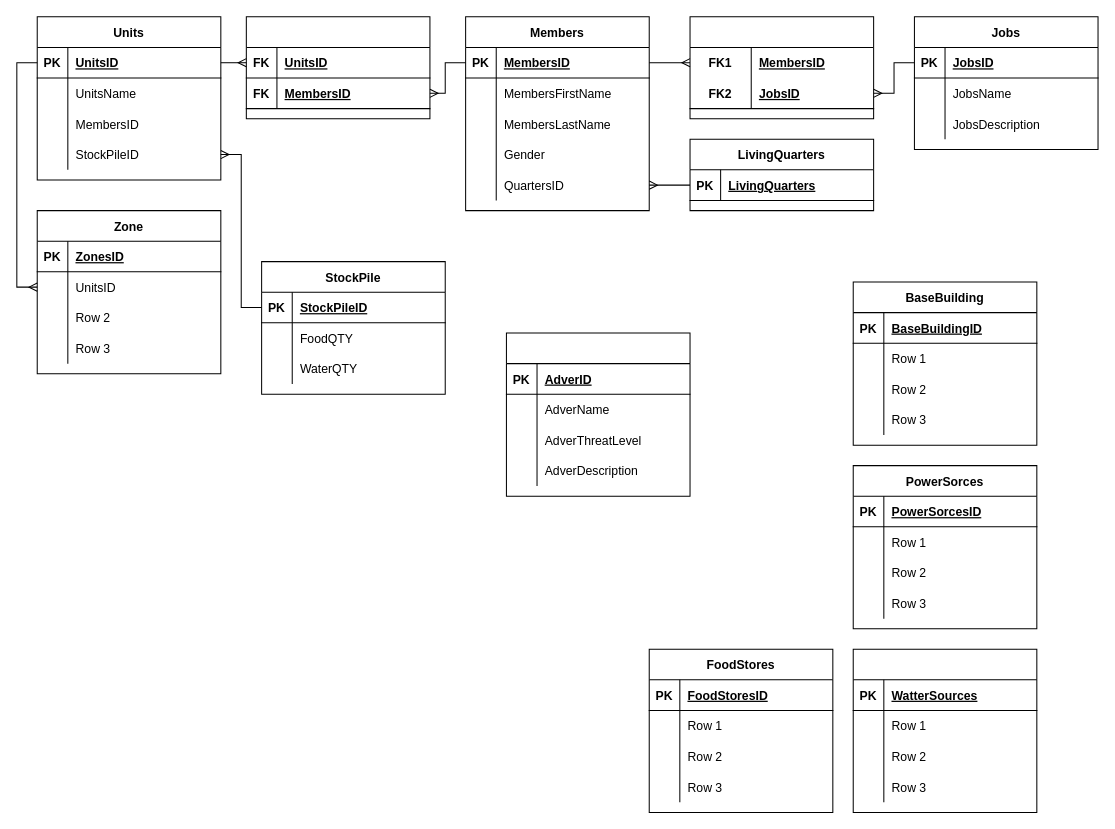
Image size: 1115x829. Some labels were removed from this diagram. The shapes that lost their labels are listed below. From the top down, each one's box as (x1, y1, x2, y2) in pixels, then its label:
(245, 16, 430, 119): UnitsMembers
(689, 16, 874, 119): MembersJob
(505, 332, 690, 496): Adversaries
(852, 648, 1037, 812): WaterSources
